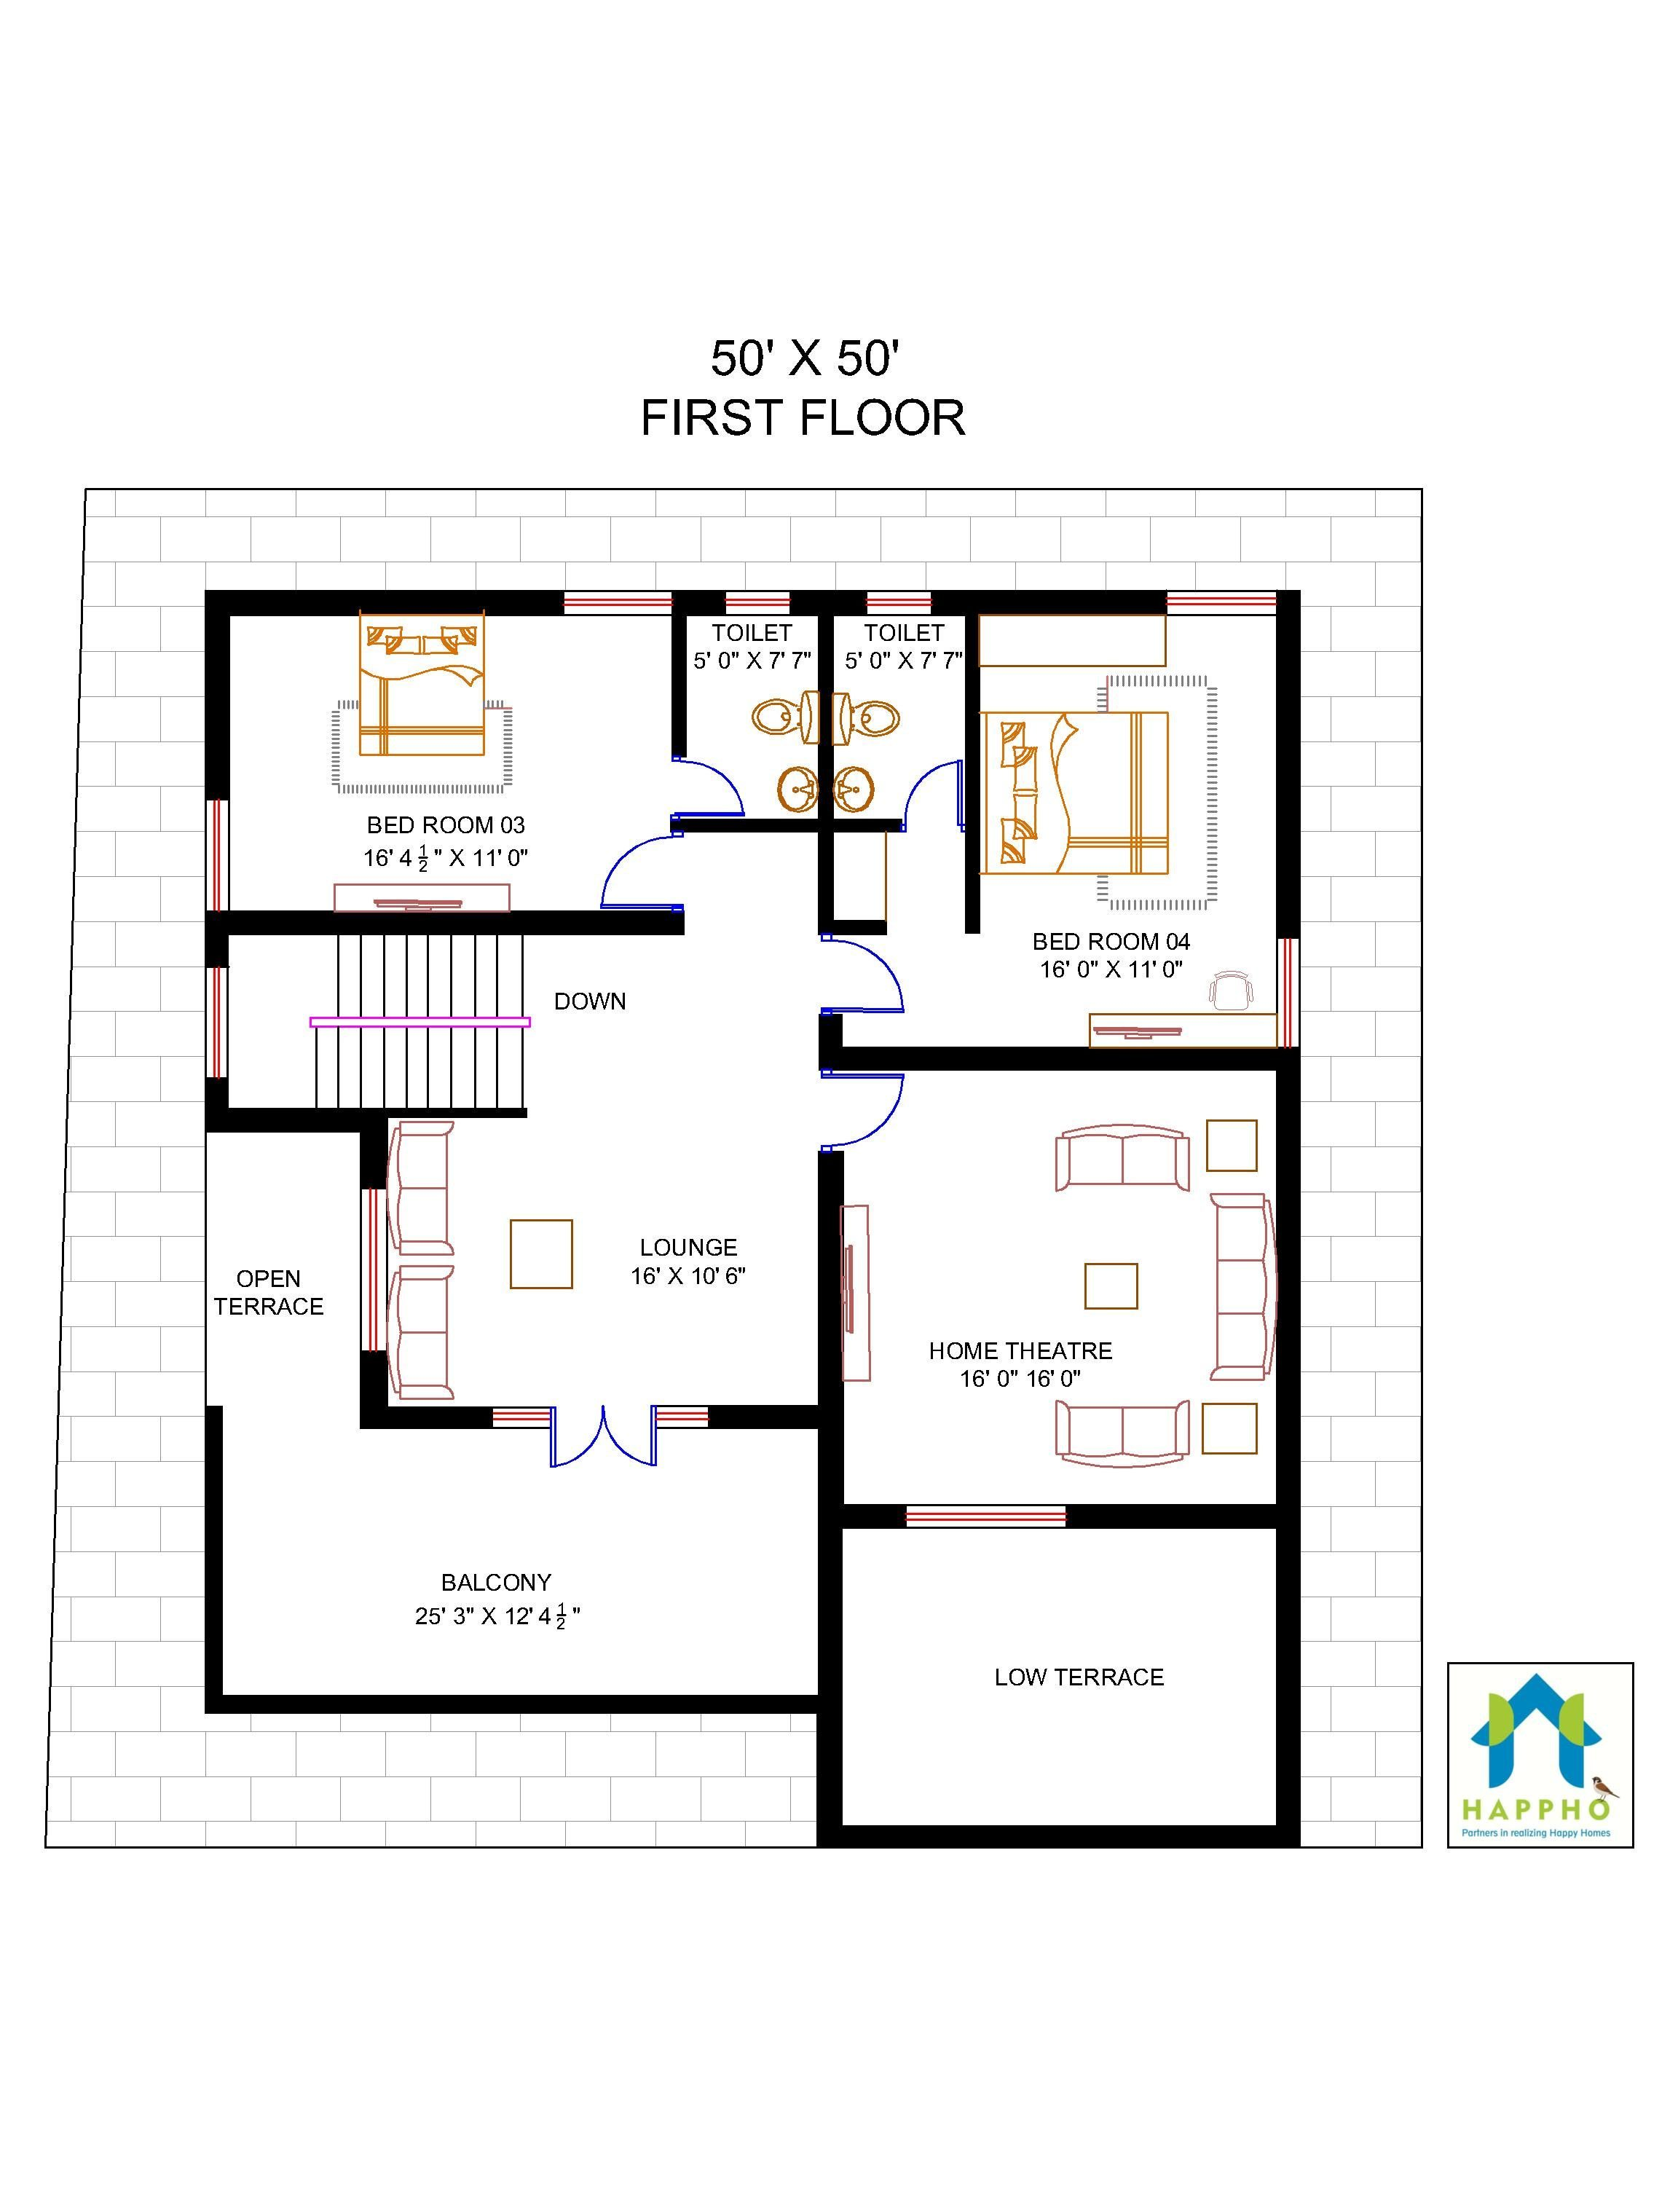door: (553, 1408, 656, 1477), (837, 1070, 917, 1146), (590, 834, 670, 908), (837, 941, 915, 1012), (686, 747, 758, 818), (894, 747, 964, 816)
